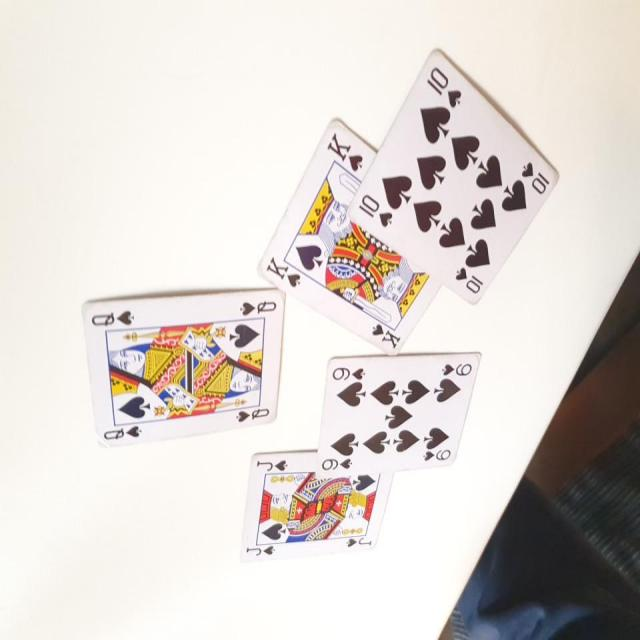10 Spades: (345, 37, 560, 322)
9 Spades: (311, 340, 474, 486)
J Spades: (235, 442, 410, 551)
K Spades: (259, 113, 455, 357)
Q Spades: (81, 284, 285, 447)
